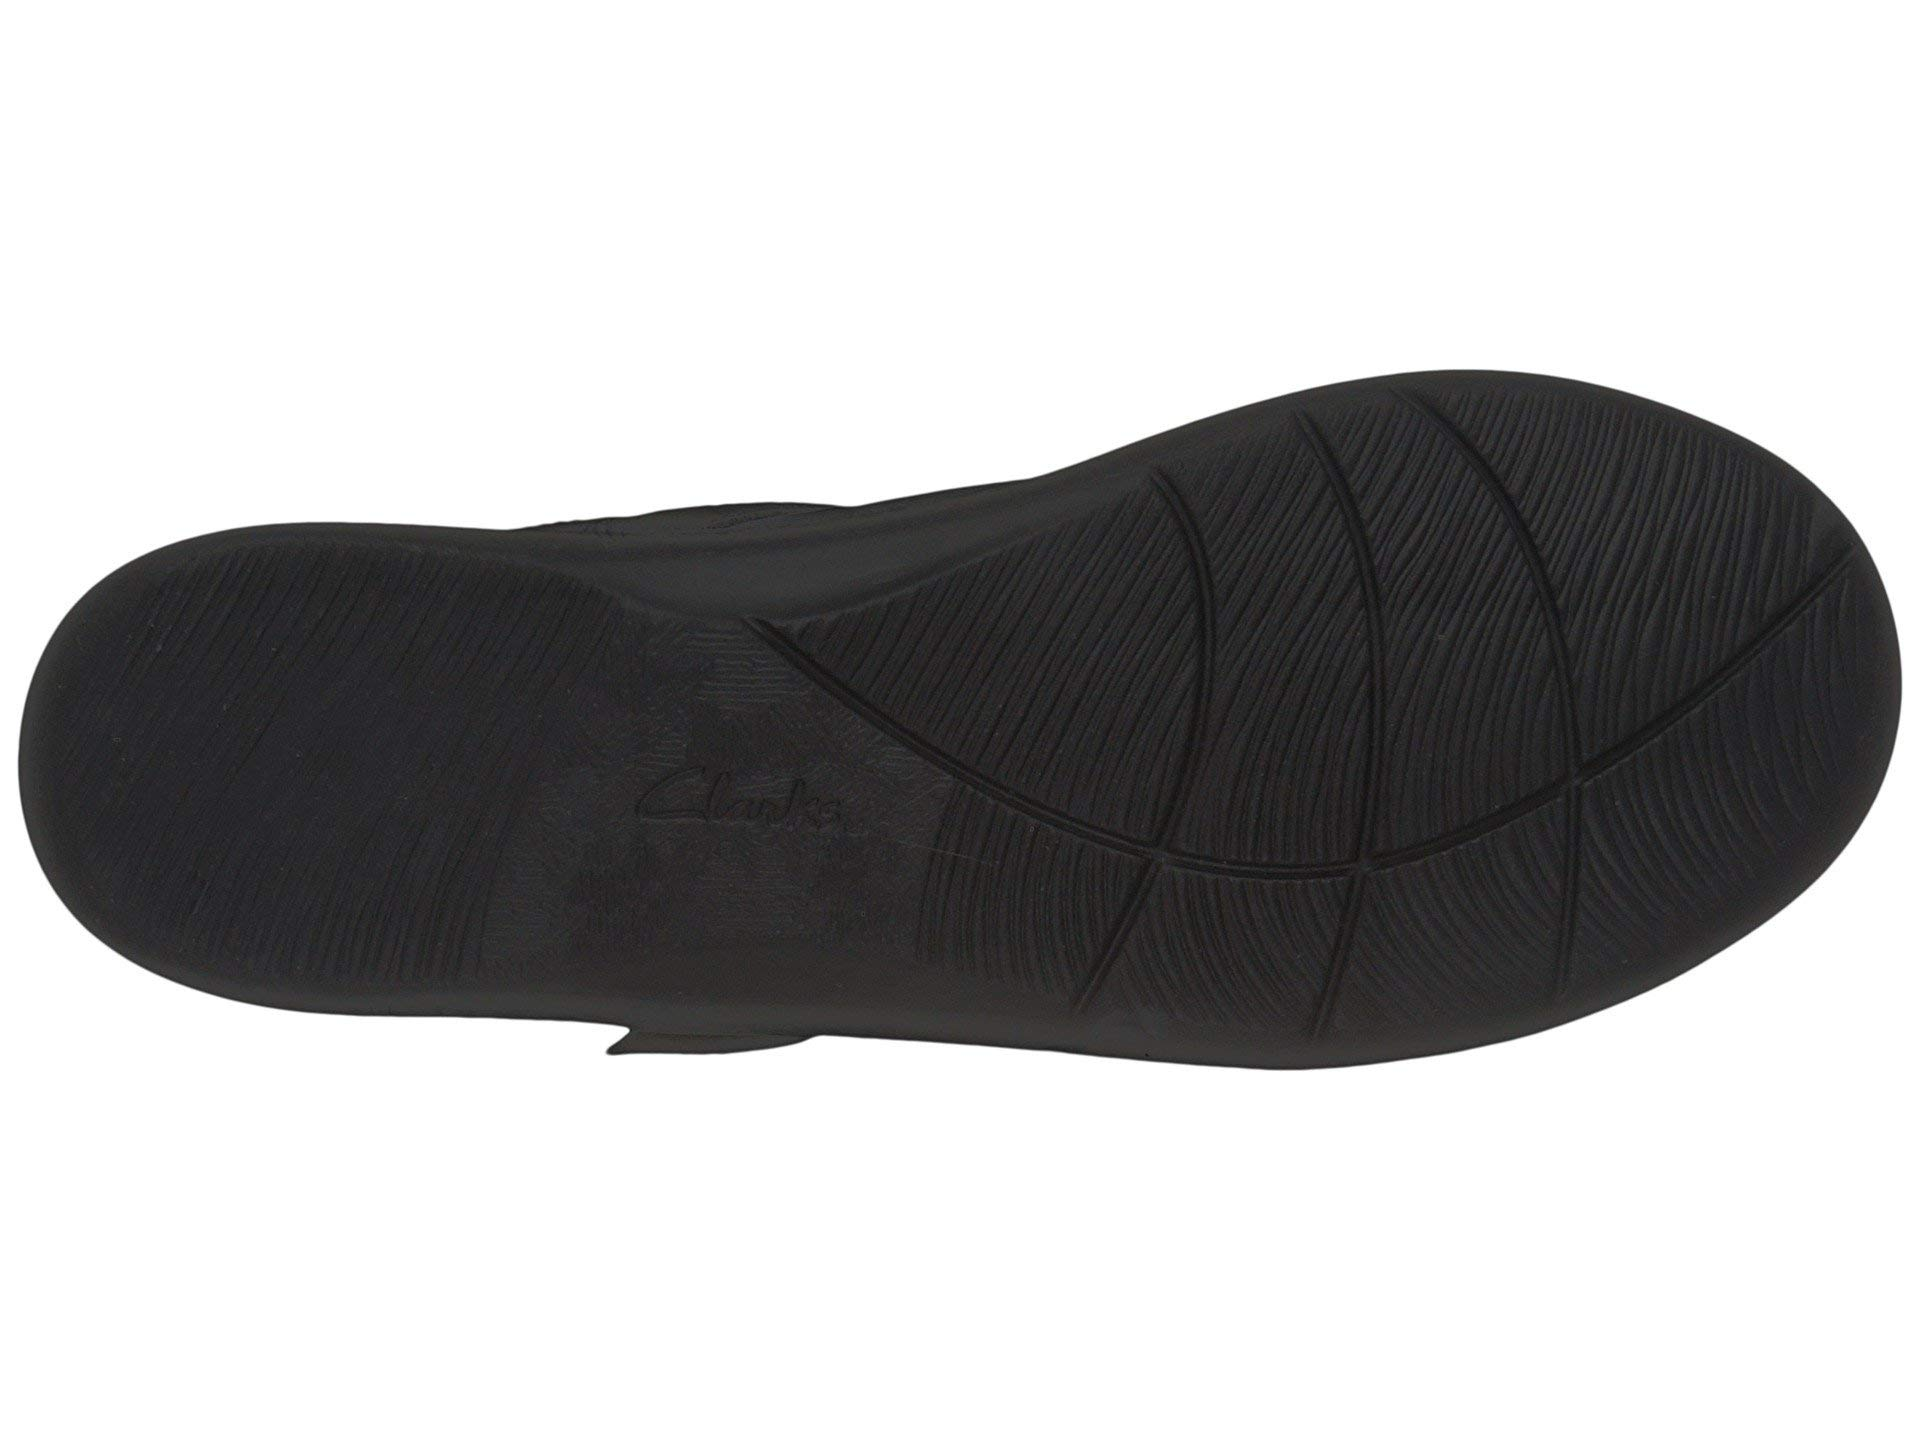text: (614, 740, 884, 908)
